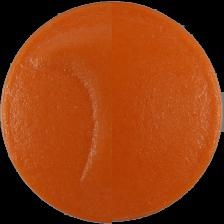67544-468: (0, 0, 224, 224)
